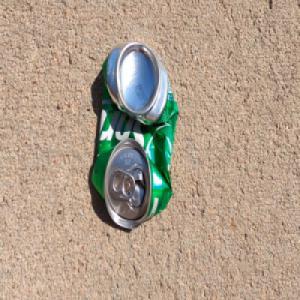SodaCan: (90, 39, 179, 232)
